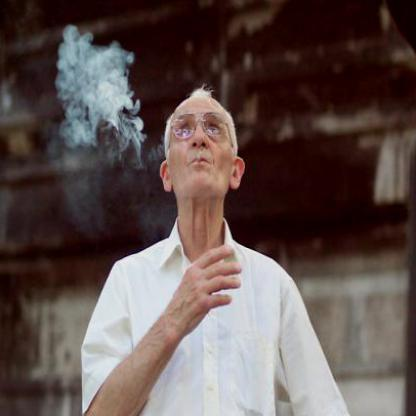cigarette: (196, 146, 204, 166)
person: (119, 88, 292, 415)
smoke: (54, 26, 144, 154)
